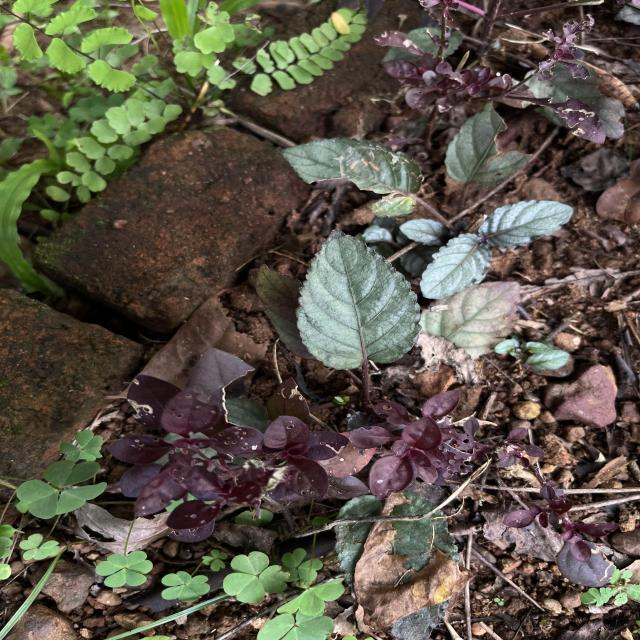Hemigraphis colorata: (292, 225, 424, 372), (474, 198, 578, 251), (418, 230, 495, 300)
